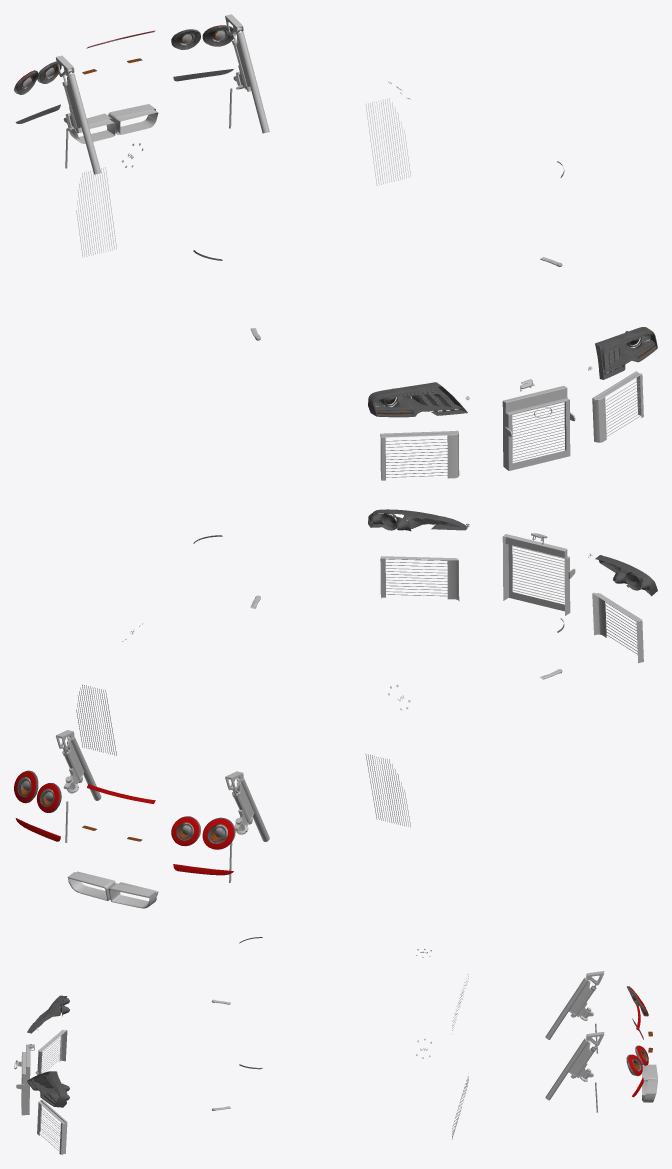
File: bugotti_veyron_sport.fbx
The picture shows the model from 3 angles, top to bottom: view 1: azimuth 30°, elevation 25°; view 2: azimuth 150°, elevation 25°; view 3: azimuth 270°, elevation 25°; orthographic projection. The views are drawn at different scales.
Parts seen in each view (by area): view 1: Body_CHROME, Body_Bugatti_VeyronSuperSport; view 2: Body_CHROME, Body_Bugatti_VeyronSuperSport, SeeThrough_RED_L; view 3: Body_CHROME, Body_Bugatti_VeyronSuperSport, SeeThrough_RED_L.
Boxes of the visible parts, x1,y1,x2,y2 form: Body_CHROME: [56, 14, 643, 480]; Body_Bugatti_VeyronSuperSport: [14, 25, 657, 417]; Body_CHROME: [56, 523, 643, 908]; Body_Bugatti_VeyronSuperSport: [17, 509, 657, 849]; SeeThrough_RED_L: [14, 771, 234, 875]; Body_CHROME: [14, 949, 657, 1154]; Body_Bugatti_VeyronSuperSport: [27, 937, 652, 1107]; SeeThrough_RED_L: [628, 986, 648, 1097].
Bounding box in the file's own units: 210 × 85.26 × 436.
